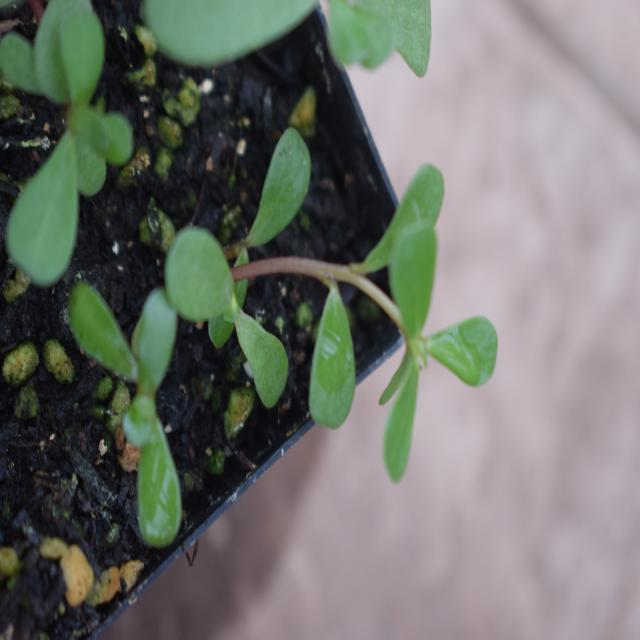purslane: (176, 156, 548, 478), (13, 0, 204, 538)
